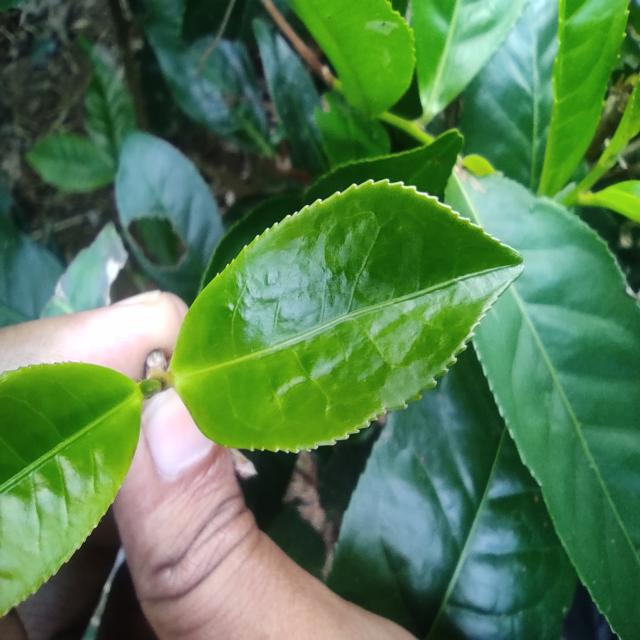Category C(4-7 days): (138, 150, 539, 488)
